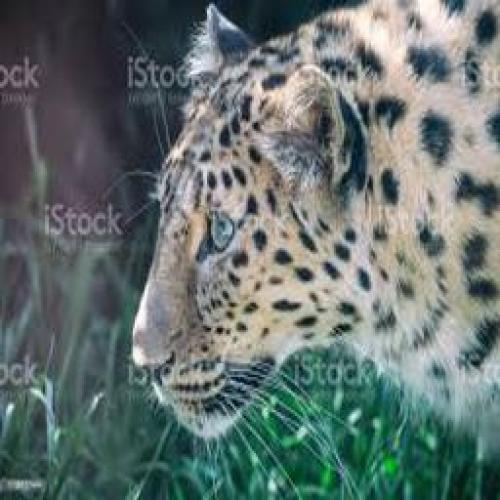amur_leopard-endangered: (121, 4, 500, 460)
